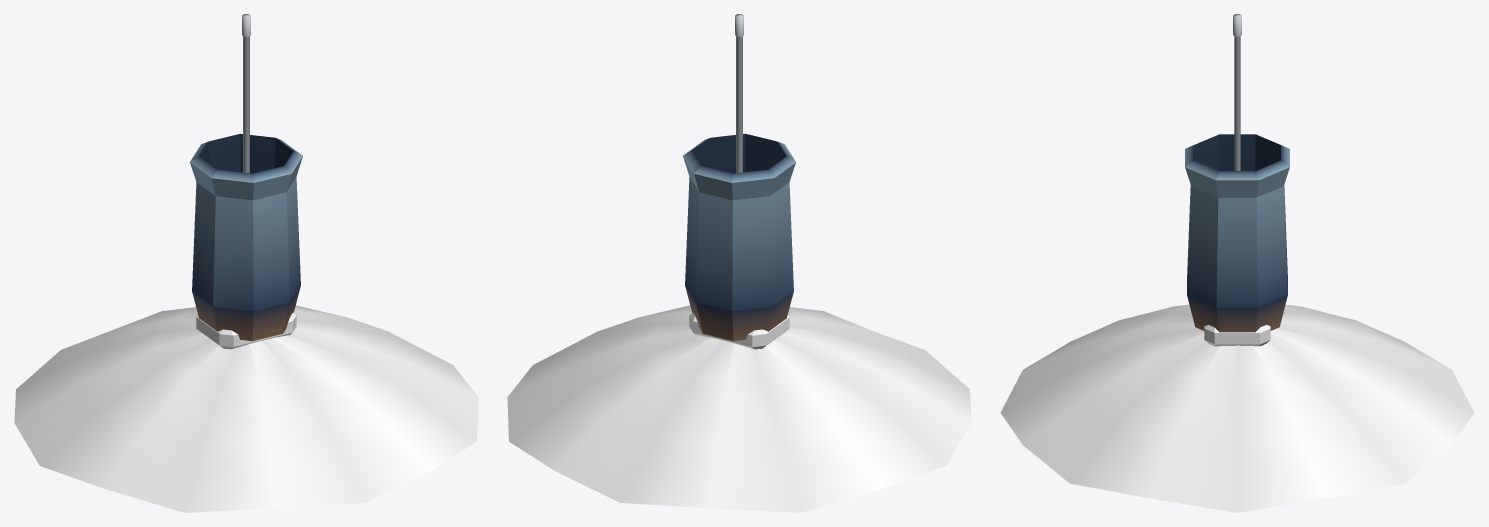
File: kasatate.glb
3 views of the same model, side by side, from view 1: azimuth 30°, elevation 25°; view 2: azimuth 150°, elevation 25°; view 3: azimuth 270°, elevation 25° (orthographic).
Parts seen in each view (by area): view 1: KasaCanopy, KasaStand, KasaRod, KasaBundle; view 2: KasaCanopy, KasaStand, KasaRod, KasaBundle; view 3: KasaCanopy, KasaStand, KasaRod, KasaBundle.
Part boxes in pixels (x1,y1,x2,y2): KasaCanopy: (14,305,478,512); KasaStand: (190,133,302,341); KasaRod: (242,14,250,173); KasaBundle: (196,312,296,349); KasaCanopy: (507,305,971,512); KasaStand: (683,133,795,341); KasaRod: (735,14,743,173); KasaBundle: (689,312,789,349); KasaCanopy: (1000,304,1474,512); KasaStand: (1185,134,1289,332); KasaRod: (1233,14,1241,170); KasaBundle: (1204,325,1270,346).
Bounding box in the file's own units: 0.6427 × 0.5941 × 0.6427.
